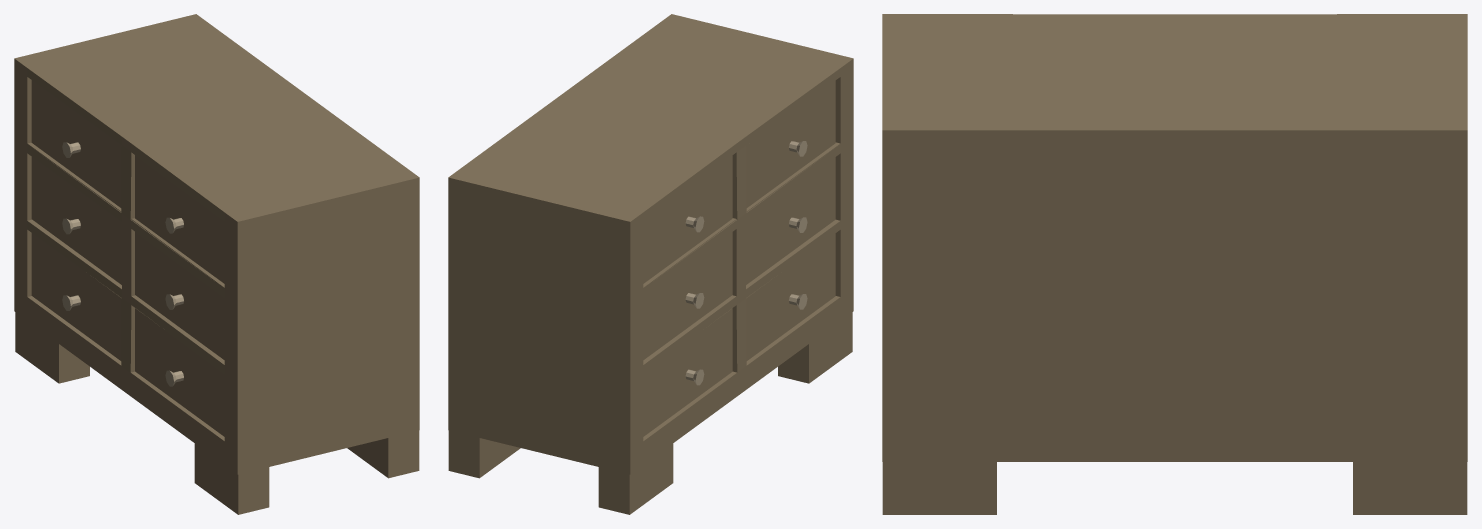
Rendered from bedRoom_drawer.fbx.
3 views of the same model, side by side, from view 1: azimuth 30°, elevation 25°; view 2: azimuth 150°, elevation 25°; view 3: azimuth 270°, elevation 25° (orthographic). The views are drawn at different scales.
Visible parts, largest first — view 1: Cube.018, Cube.021, drawer_front.004, drawer_front, drawer_front.003, drawer_front.005, drawer_front.001, drawer_front.002, Cube.008, Cube.014, Cube.012; view 2: Cube.018, Cube.021, drawer_front.005, drawer_front.004, drawer_front.001, drawer_front, drawer_front.002, drawer_front.003, Cube.014, Cube.008, Cube.013; view 3: Cube.021, Cube.018, Cube.012, Cube.013.
Boxes of the visible parts, bbox=[...] form: Cube.018: bbox=[14, 14, 419, 297]; Cube.021: bbox=[14, 134, 419, 474]; drawer_front.004: bbox=[31, 233, 121, 360]; drawer_front: bbox=[31, 80, 121, 207]; drawer_front.003: bbox=[31, 157, 121, 284]; drawer_front.005: bbox=[135, 308, 224, 436]; drawer_front.001: bbox=[135, 155, 224, 283]; drawer_front.002: bbox=[135, 232, 224, 359]; Cube.008: bbox=[194, 443, 269, 514]; Cube.014: bbox=[15, 312, 89, 383]; Cube.012: bbox=[347, 430, 419, 478]; Cube.018: bbox=[448, 14, 853, 297]; Cube.021: bbox=[448, 134, 853, 474]; drawer_front.005: bbox=[746, 233, 835, 360]; drawer_front.004: bbox=[643, 308, 732, 436]; drawer_front.001: bbox=[746, 80, 835, 207]; drawer_front: bbox=[643, 155, 732, 283]; drawer_front.002: bbox=[746, 157, 835, 284]; drawer_front.003: bbox=[643, 232, 732, 359]; Cube.014: bbox=[598, 443, 673, 514]; Cube.008: bbox=[778, 312, 852, 383]; Cube.013: bbox=[448, 430, 520, 478]; Cube.021: bbox=[882, 230, 1467, 461]; Cube.018: bbox=[882, 14, 1467, 230]; Cube.012: bbox=[882, 462, 996, 514]; Cube.013: bbox=[1353, 462, 1467, 514].
Size of the model in its own units: 83.81 by 123 by 170.
